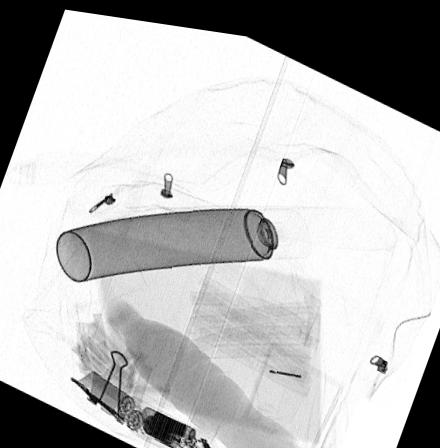Sprayer: (53, 198, 309, 280)
